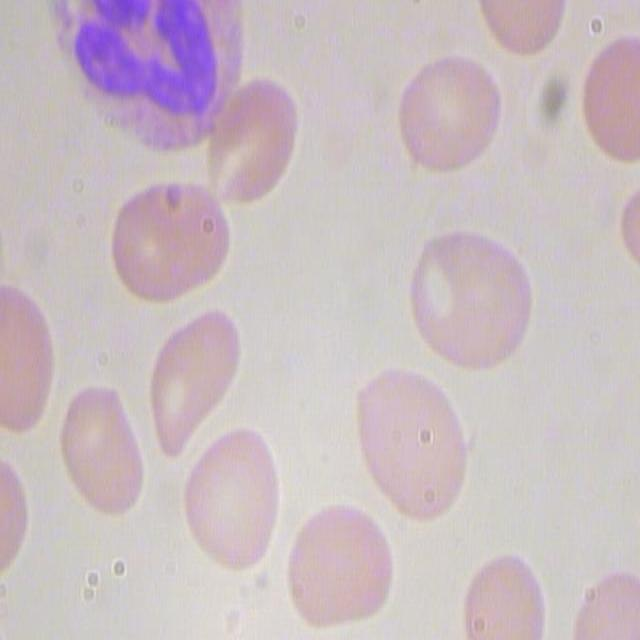RBC: (403, 226, 538, 376), (352, 366, 472, 527), (102, 174, 230, 313), (176, 428, 284, 576), (276, 508, 398, 630), (387, 56, 502, 182), (145, 304, 240, 454), (198, 76, 300, 212), (58, 388, 152, 526), (456, 550, 558, 638), (0, 278, 54, 440), (573, 34, 640, 162), (477, 0, 570, 60), (580, 560, 639, 640)
WBC: (53, 0, 244, 161)
